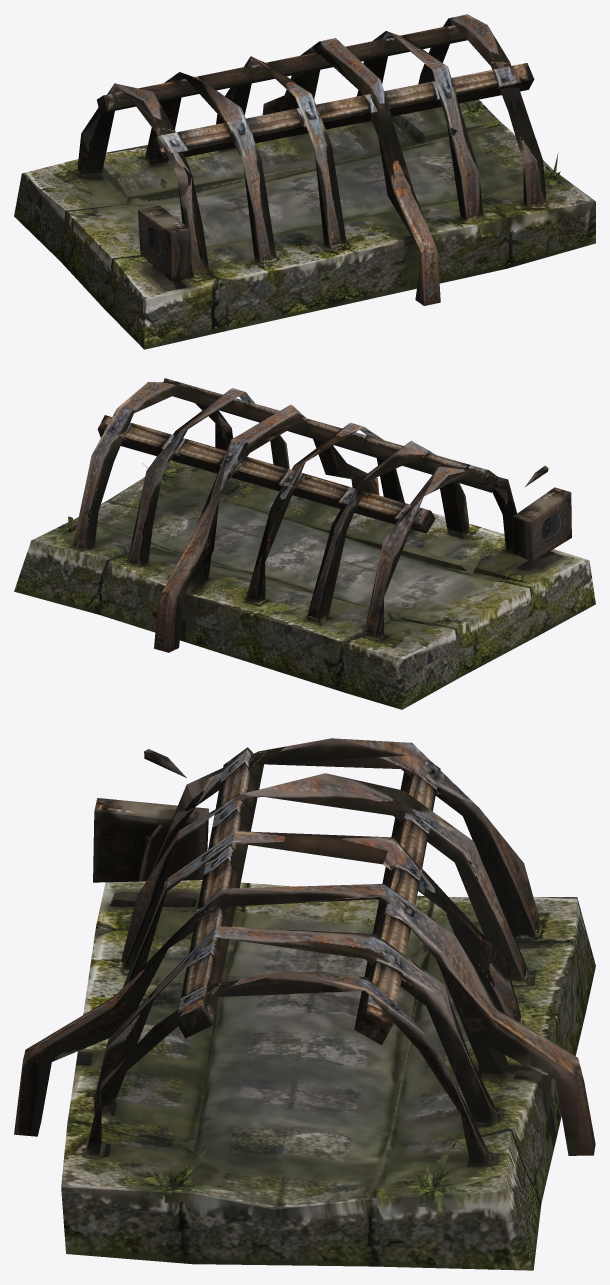
File: act1_kit_v1_mortsafe.glb
The picture shows the model from 3 angles, top to bottom: view 1: azimuth 30°, elevation 25°; view 2: azimuth 150°, elevation 25°; view 3: azimuth 270°, elevation 25°; orthographic projection. The views are drawn at different scales.
Parts seen in each view (by area): view 1: A02_2_mortsafe; view 2: A02_2_mortsafe; view 3: A02_2_mortsafe.
Part boxes in pixels (left/top/right/bottom): A02_2_mortsafe: left=14, top=14, right=595, bottom=349; A02_2_mortsafe: left=14, top=378, right=595, bottom=709; A02_2_mortsafe: left=14, top=738, right=595, bottom=1270.
Bounding box in the file's own units: 0.9753 × 0.3615 × 0.711.
1 material, 1 textured.
